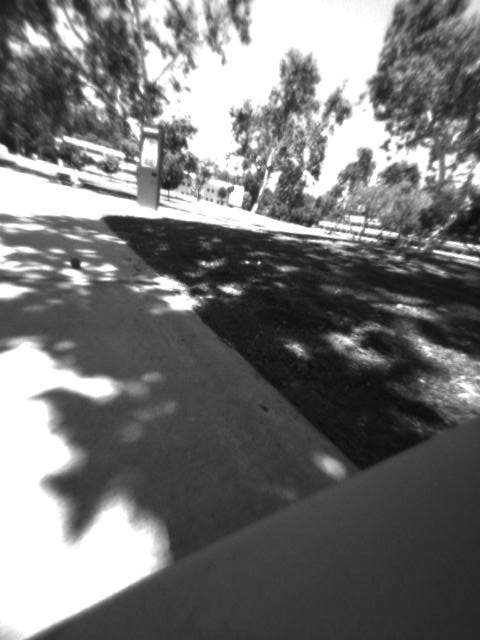dogtoy: (58, 251, 90, 275)
